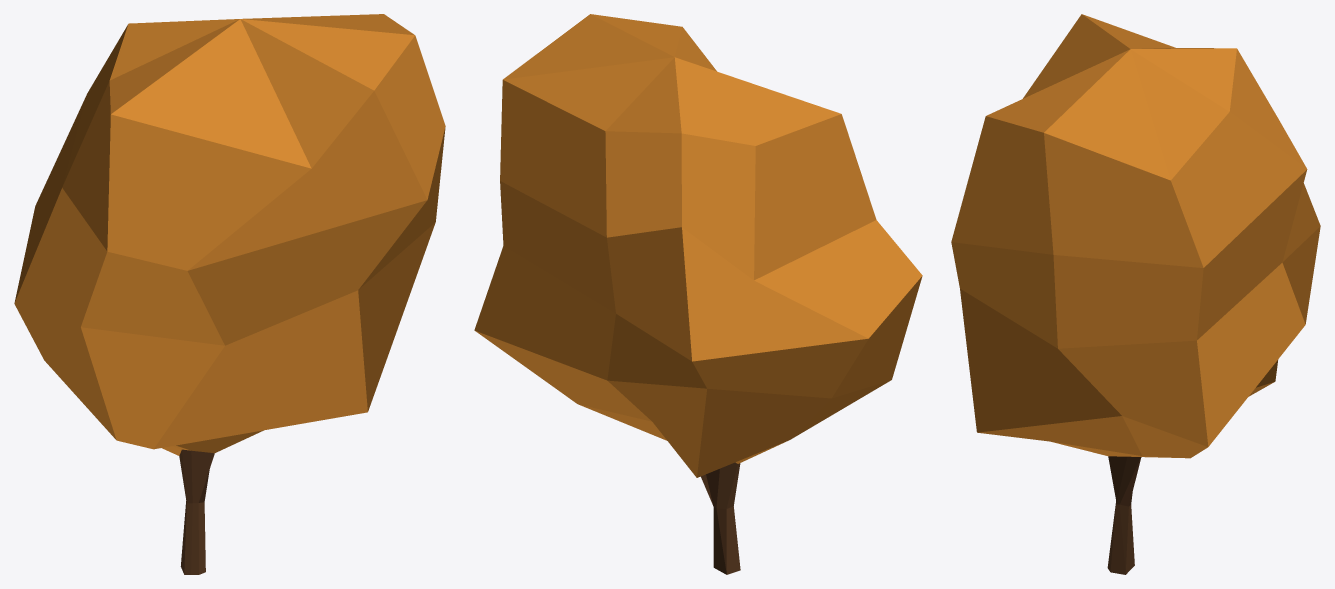
Rendered from Tree_1.glb.
3 views of the same model, side by side, from view 1: azimuth 30°, elevation 25°; view 2: azimuth 150°, elevation 25°; view 3: azimuth 270°, elevation 25° (orthographic). The views are drawn at different scales.
Visible parts, largest first — view 1: Tree_PROXY; view 2: Tree_PROXY; view 3: Tree_PROXY.
Part boxes in pixels (box(x1,y1,x2,y2)): Tree_PROXY: box(14, 14, 445, 574); Tree_PROXY: box(474, 14, 922, 574); Tree_PROXY: box(951, 14, 1320, 574).
Size of the model in its own units: 7.31 by 9.57 by 5.87.
